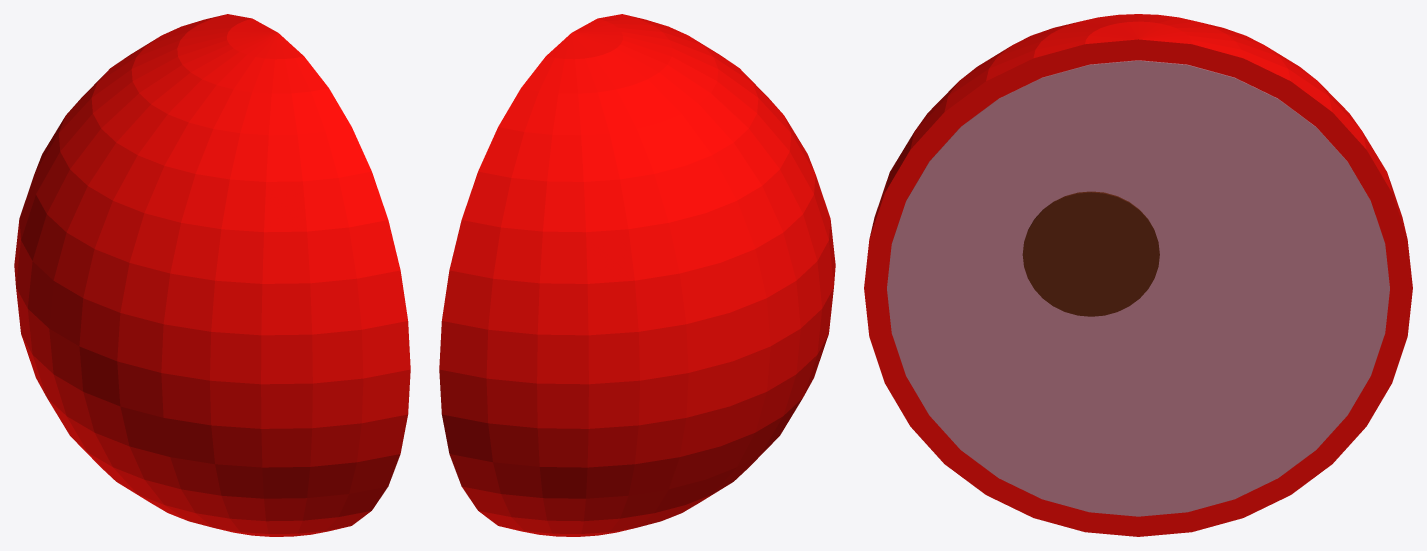
The model's file is ovule.glb.
The picture shows the model from 3 angles, left to right: view 1: azimuth 30°, elevation 25°; view 2: azimuth 150°, elevation 25°; view 3: azimuth 270°, elevation 25°; orthographic projection. The views are drawn at different scales.
Visible parts, largest first — view 1: Sphere.001; view 2: Sphere.001; view 3: Sphere.002, Sphere.001, Sphere.
Part boxes in pixels (x1,y1,x2,y2): Sphere.001: (14, 14, 410, 536); Sphere.001: (439, 14, 835, 536); Sphere.002: (887, 60, 1389, 516); Sphere.001: (864, 14, 1412, 536); Sphere: (1022, 191, 1159, 316).
Size of the model in its own units: 6.08 by 12 by 12.
Materials: 3 (3 with a texture image).
